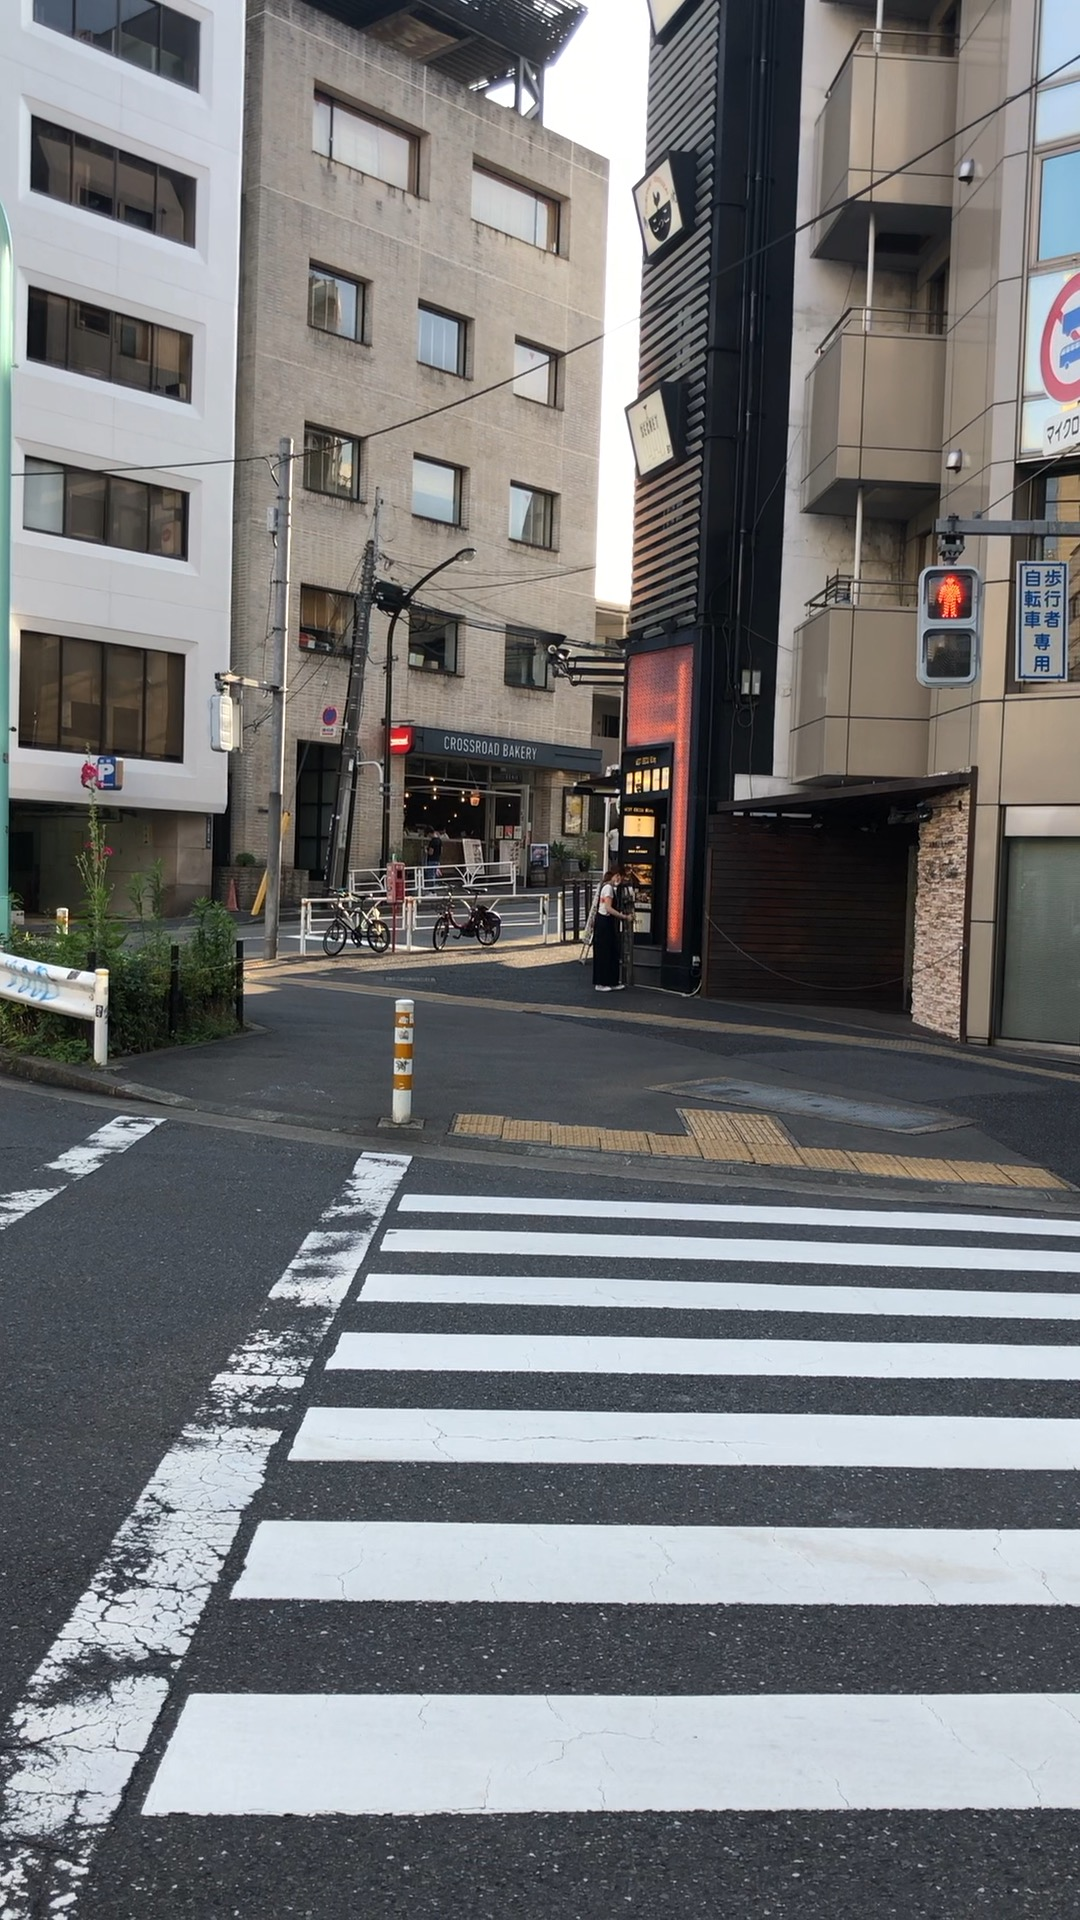red: (916, 564, 978, 687)
